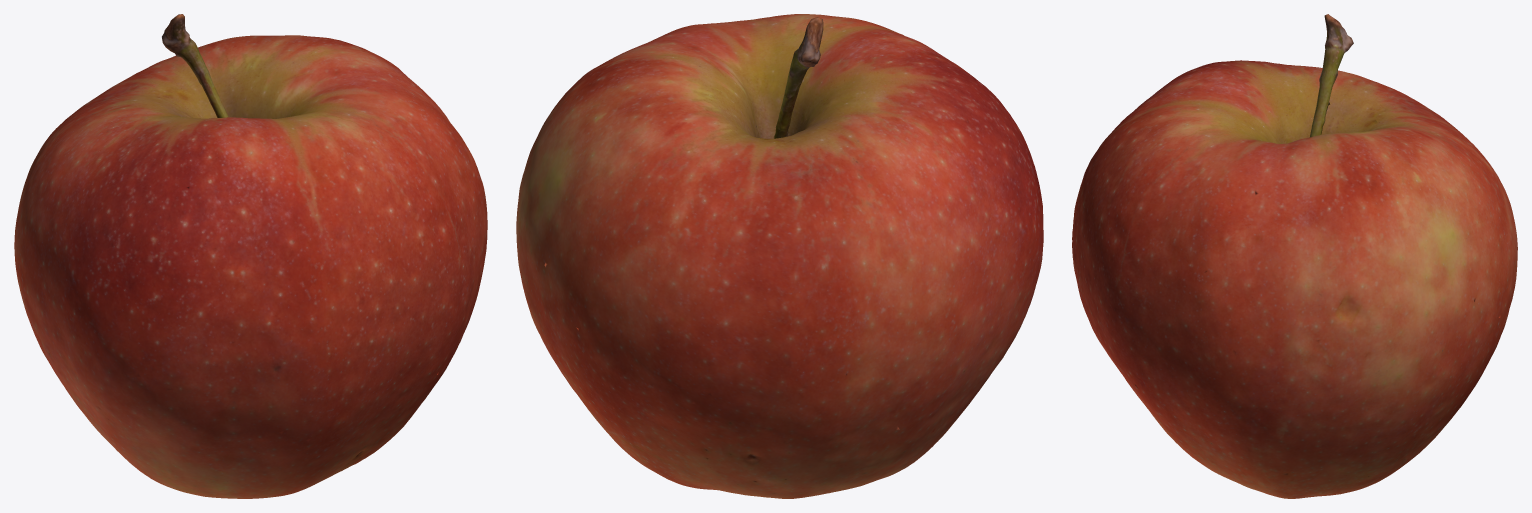
Rendered from 3DApple001_HQ-2K-PNG.obj.
The picture shows the model from 3 angles, left to right: view 1: azimuth 30°, elevation 25°; view 2: azimuth 150°, elevation 25°; view 3: azimuth 270°, elevation 25°; orthographic projection. The views are drawn at different scales.
Parts seen in each view (by area): view 1: 3DApple001_HQ-2K-PNG; view 2: 3DApple001_HQ-2K-PNG; view 3: 3DApple001_HQ-2K-PNG.
Part boxes in pixels (x1,y1,x2,y2): 3DApple001_HQ-2K-PNG: (14,14,487,498); 3DApple001_HQ-2K-PNG: (516,14,1043,498); 3DApple001_HQ-2K-PNG: (1072,14,1517,498).
Bounding box in the file's own units: 0.1157 × 0.1199 × 0.1152.
1 material, 1 textured.
